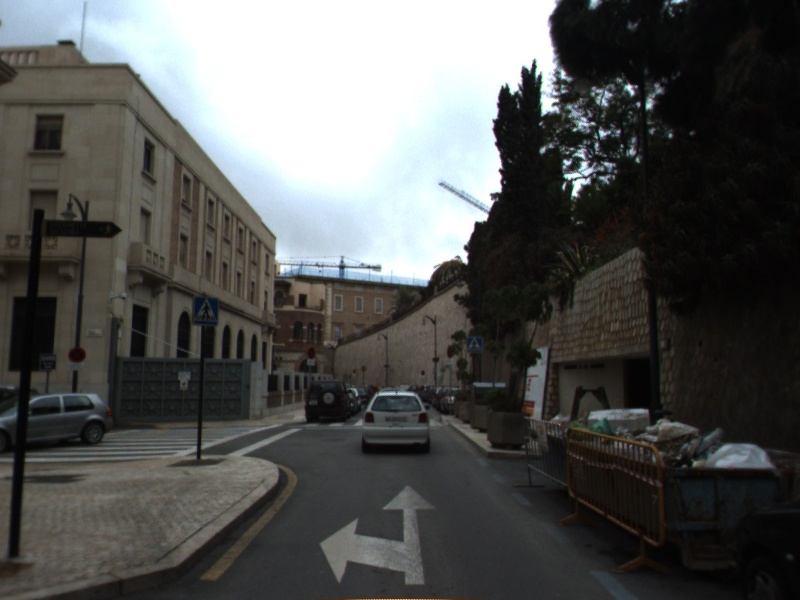STRAIGHT_LEFT: (317, 483, 439, 586)
